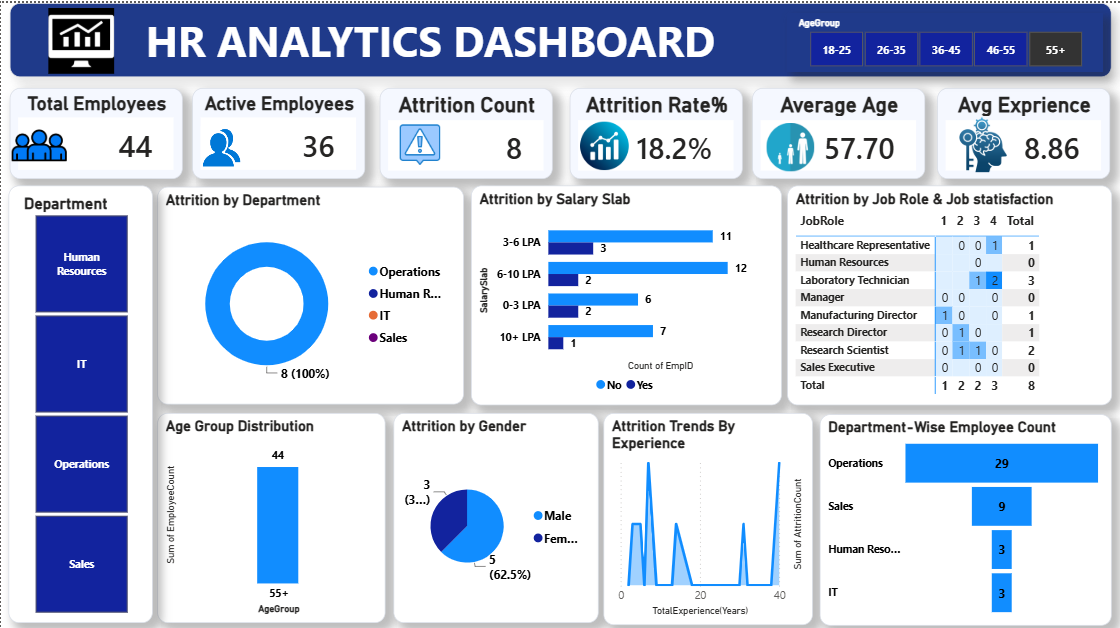

What the dashboard file says about the page in this screenshot:
{"tool":"powerbi","page":{"name":"Page 1","canvas":[1280,720],"ordinal":0},"visuals":[{"type":"textbox","box":[10,0,1259,85],"z":0},{"type":"cardVisual","title":"Total Employees","fields":{"Data":["CountNonNull(HR_Analytics-4.EmpID)"]},"box":[9.6,97.4,197.6,104.3],"z":1000},{"type":"cardVisual","title":"Active Employees","fields":{"Data":["CountNonNull(HR_Analytics-4.EmployeeCount)"]},"box":[218.2,97.4,197.6,104.3],"z":2000},{"type":"cardVisual","title":"Attrition Count","fields":{"Data":["Sum(HR_Analytics-4.AttritionCount)"]},"box":[432.2,97.4,197.6,104.3],"z":3000},{"type":"cardVisual","title":"Attrition Rate%","fields":{"Data":["HR_Analytics-4.Attrition Rate %"]},"box":[650.4,97.4,197.6,104.3],"z":4000},{"type":"cardVisual","title":"Average Age","fields":{"Data":["Avg(HR_Analytics-4.Age)"]},"box":[859,97.4,197.6,104.3],"z":5000},{"type":"cardVisual","title":"Avg Exprience","fields":{"Data":["Avg(HR_Analytics-4.YearsatCompany)"]},"box":[1070.3,97.4,197.6,104.3],"z":6000},{"type":"image","box":[9.6,123.5,67.2,78.2],"z":7000},{"type":"image","box":[218.2,141.3,67.2,48],"z":8000},{"type":"image","box":[660,126.2,59,75.5],"z":9000},{"type":"image","box":[868.6,137.2,67.2,54.9],"z":10000},{"type":"image","box":[450.1,137.2,57.6,49.4],"z":11000},{"type":"image","box":[1089.5,123.5,64.5,78.2],"z":12000},{"type":"donutChart","title":"Attrition by Department","fields":{"Category":["HR_Analytics-4.Department"],"Y":["Sum(HR_Analytics-4.AttritionCount)"]},"box":[179,210,350,249],"z":13000},{"type":"clusteredBarChart","title":"Attrition by Salary Slab","fields":{"Category":["HR_Analytics-4.SalarySlab"],"Y":["CountNonNull(HR_Analytics-4.EmpID)"],"Series":["HR_Analytics-4.Attrition"]},"box":[537,209,355,251],"z":14000},{"type":"pivotTable","title":"Attrition by Job Role & Job statisfaction","fields":{"Rows":["HR_Analytics-4.JobRole"],"Values":["Sum(HR_Analytics-4.AttritionCount)"],"Columns":["HR_Analytics-4.JobSatisfaction"]},"box":[898,209,371,251],"z":15000},{"type":"columnChart","title":"Age Group Distribution","fields":{"Category":["HR_Analytics-4.AgeGroup"],"Y":["Sum(HR_Analytics-4.EmployeeCount)"]},"box":[179,469,261,240],"z":16000},{"type":"pieChart","title":"Attrition by Gender","fields":{"Category":["HR_Analytics-4.Gender"],"Y":["Sum(HR_Analytics-4.AttritionCount)"]},"box":[448,469,234,240],"z":17000},{"type":"areaChart","title":"Attrition Trends By Experience","fields":{"Y2":["Sum(HR_Analytics-4.AttritionCount)"],"Category":["HR_Analytics-4.TotalExperience(Years)"]},"box":[689,469,239,242],"z":18000},{"type":"funnel","title":"Department-Wise Employee Count","fields":{"Category":["HR_Analytics-4.Department"],"Y":["CountNonNull(HR_Analytics-4.EmpID)"]},"box":[935.9,469.3,333.4,241.5],"z":19000},{"type":"slicer","fields":{"Values":["HR_Analytics-4.Department"]},"box":[9,209,165,500],"z":20000},{"type":"slicer","fields":{"Values":["HR_Analytics-4.AgeGroup"]},"box":[898,12,361,68],"z":20001},{"type":"image","box":[15.1,5.5,152.3,75.5],"z":20002}]}

Visuals, with their boxes in screenshot pixels (x1, y1, x2, y2), scaled from the page's 1280x720 canvas onto the 1120x628 screenshot:
textbox: [left=9, top=0, right=1110, bottom=74]
"Total Employees" cardVisual: [left=8, top=85, right=181, bottom=176]
"Active Employees" cardVisual: [left=191, top=85, right=364, bottom=176]
"Attrition Count" cardVisual: [left=378, top=85, right=551, bottom=176]
"Attrition Rate%" cardVisual: [left=569, top=85, right=742, bottom=176]
"Average Age" cardVisual: [left=752, top=85, right=925, bottom=176]
"Avg Exprience" cardVisual: [left=937, top=85, right=1109, bottom=176]
image: [left=8, top=108, right=67, bottom=176]
image: [left=191, top=123, right=250, bottom=165]
image: [left=578, top=110, right=629, bottom=176]
image: [left=760, top=120, right=819, bottom=168]
image: [left=394, top=120, right=444, bottom=163]
image: [left=953, top=108, right=1010, bottom=176]
"Attrition by Department" donutChart: [left=157, top=183, right=463, bottom=400]
"Attrition by Salary Slab" clusteredBarChart: [left=470, top=182, right=780, bottom=401]
"Attrition by Job Role & Job statisfaction" pivotTable: [left=786, top=182, right=1110, bottom=401]
"Age Group Distribution" columnChart: [left=157, top=409, right=385, bottom=618]
"Attrition by Gender" pieChart: [left=392, top=409, right=597, bottom=618]
"Attrition Trends By Experience" areaChart: [left=603, top=409, right=812, bottom=620]
"Department-Wise Employee Count" funnel: [left=819, top=409, right=1111, bottom=620]
slicer - HR_Analytics-4.Department: [left=8, top=182, right=152, bottom=618]
slicer - HR_Analytics-4.AgeGroup: [left=786, top=10, right=1102, bottom=70]
image: [left=13, top=5, right=146, bottom=71]
